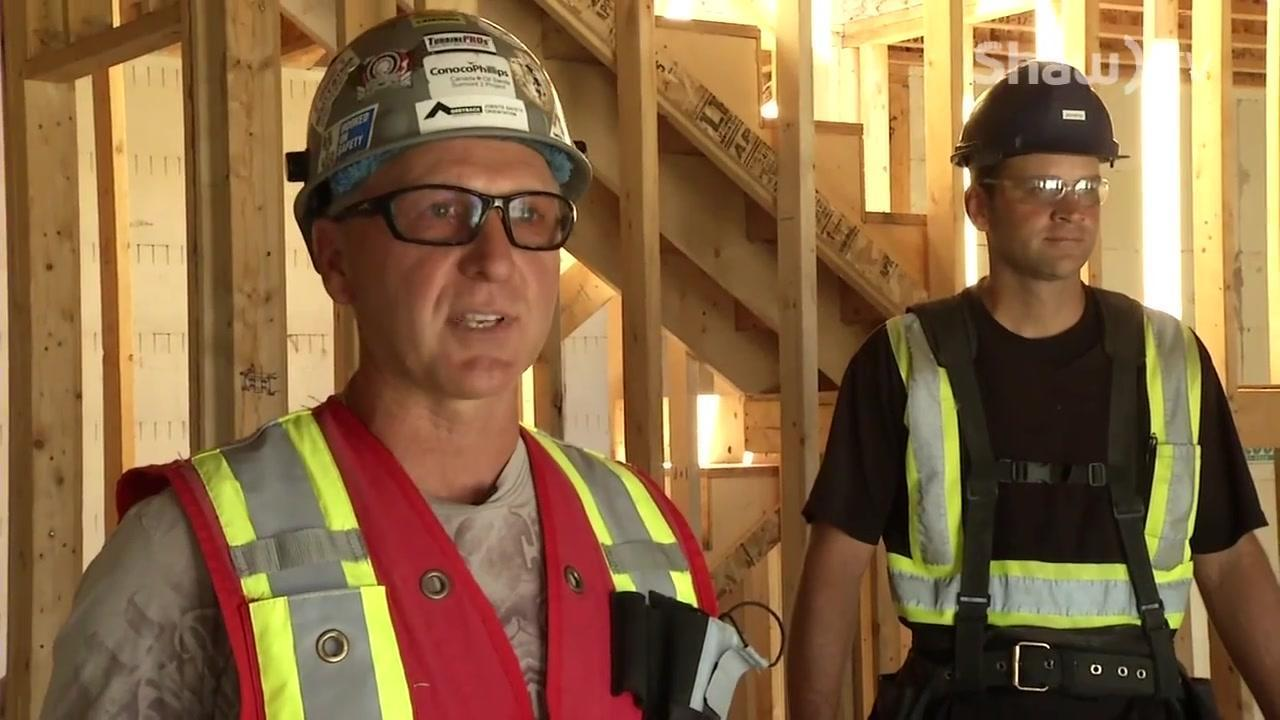vest: (114, 394, 721, 719), (878, 288, 1203, 635)
